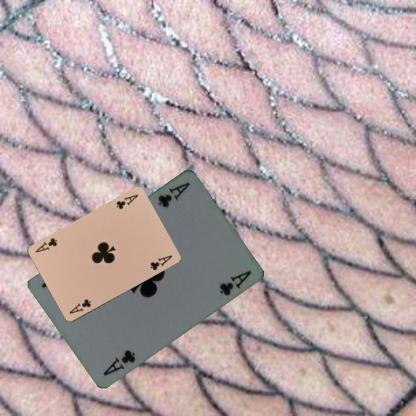Ac: (100, 346, 137, 376), (155, 179, 191, 209), (66, 297, 92, 316), (113, 192, 139, 211)
